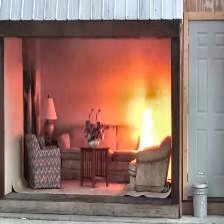fire: (130, 90, 168, 141)
